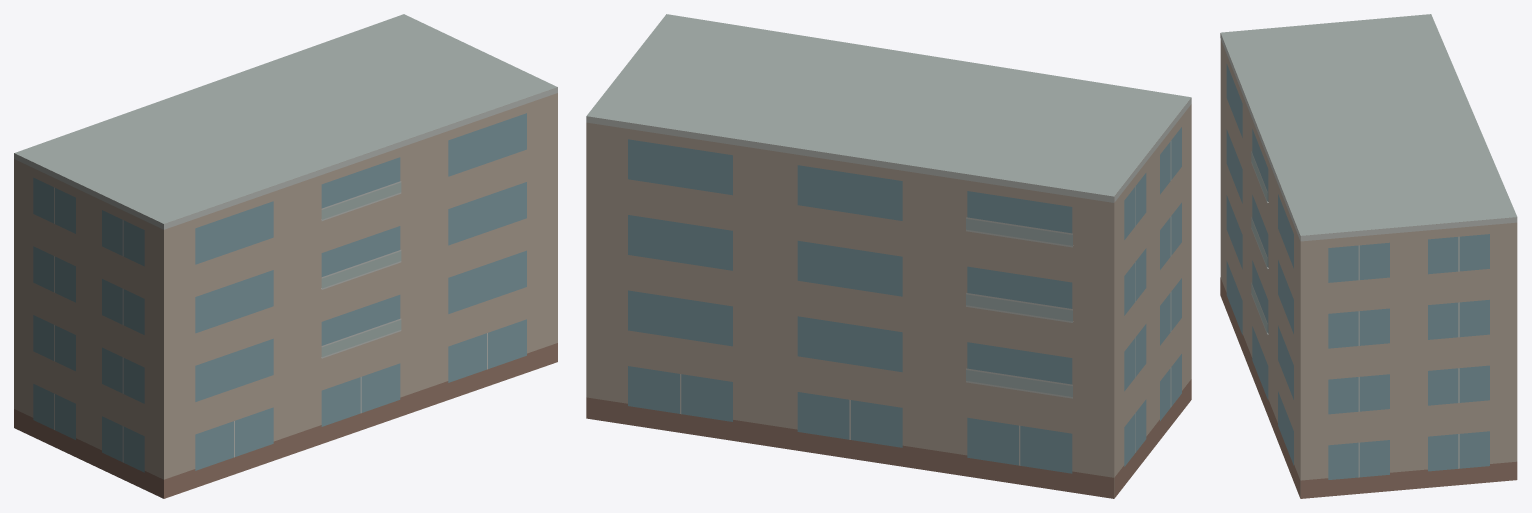
File: survey-upis-32569894.glb
The picture shows the model from 3 angles, left to right: view 1: azimuth 30°, elevation 25°; view 2: azimuth 150°, elevation 25°; view 3: azimuth 270°, elevation 25°; orthographic projection. The views are drawn at different scales.
Parts seen in each view (by area): view 1: survey-upis-32569894.tmp; view 2: survey-upis-32569894.tmp; view 3: survey-upis-32569894.tmp.
Part boxes in pixels (x1=…): survey-upis-32569894.tmp: x1=14, y1=14, x2=557, y2=498; survey-upis-32569894.tmp: x1=586, y1=14, x2=1191, y2=498; survey-upis-32569894.tmp: x1=1220, y1=14, x2=1517, y2=498.
Bounding box in the file's own units: 20.95 × 11.57 × 11.85.
